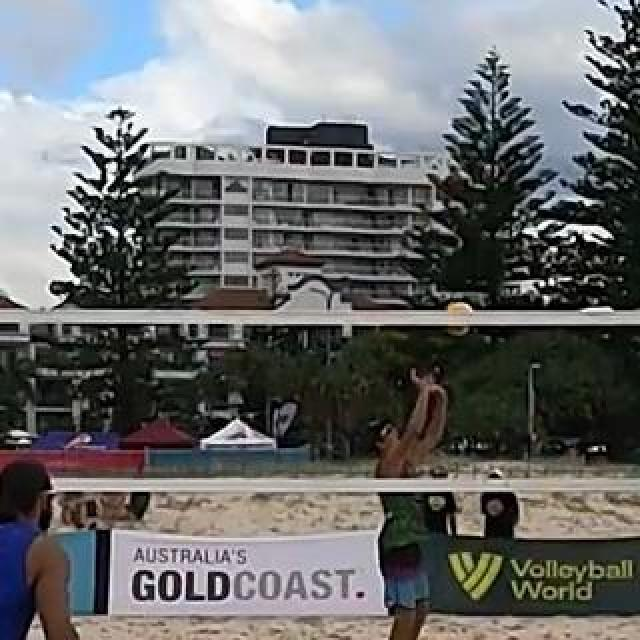volleyball: (442, 300, 474, 336)
